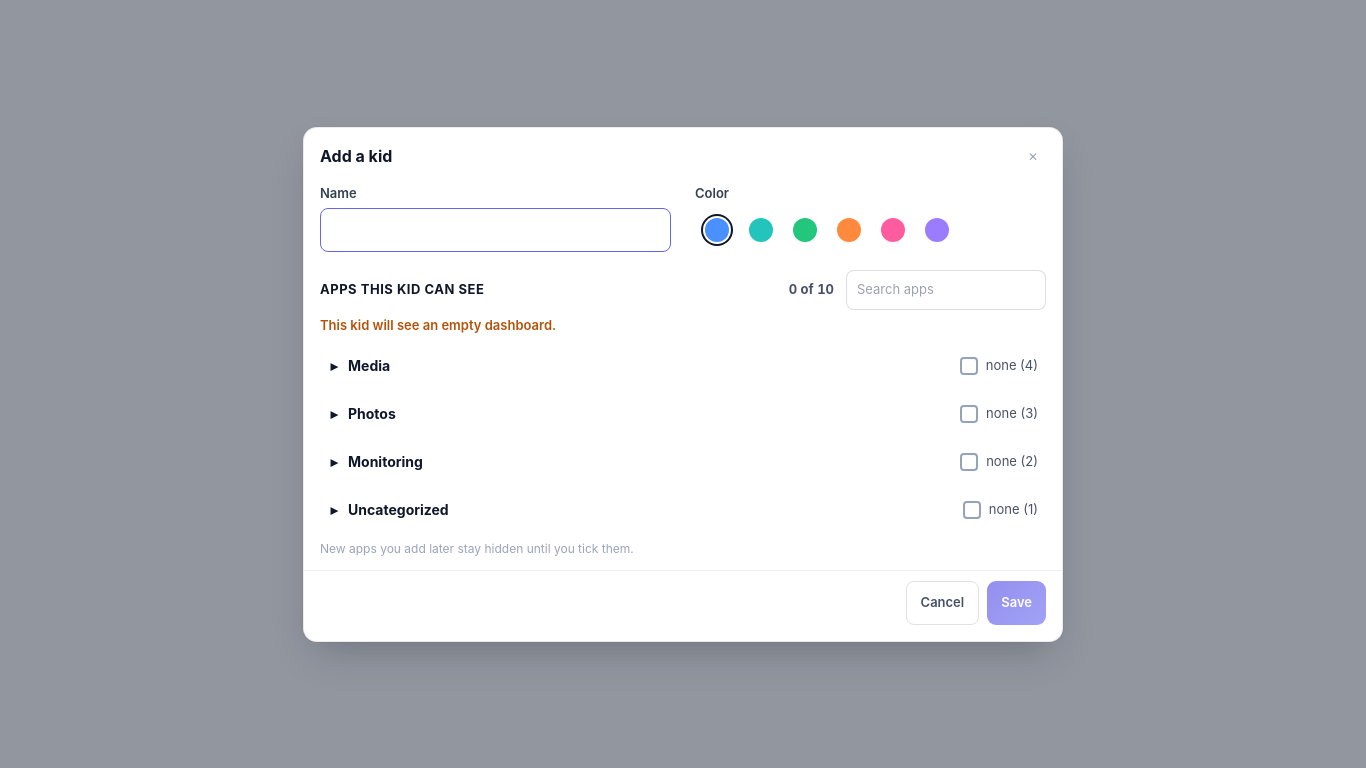
Add a kid (UX §3) › a 400 from the server is a name error too
Expected: the element with test id "kid-checklist" is shown, top-left (320, 344), bottom-right (1046, 532)
Type "Leo" into the field labelled "Name" at (496,230), box top-left (320, 208), bottom-right (671, 252)
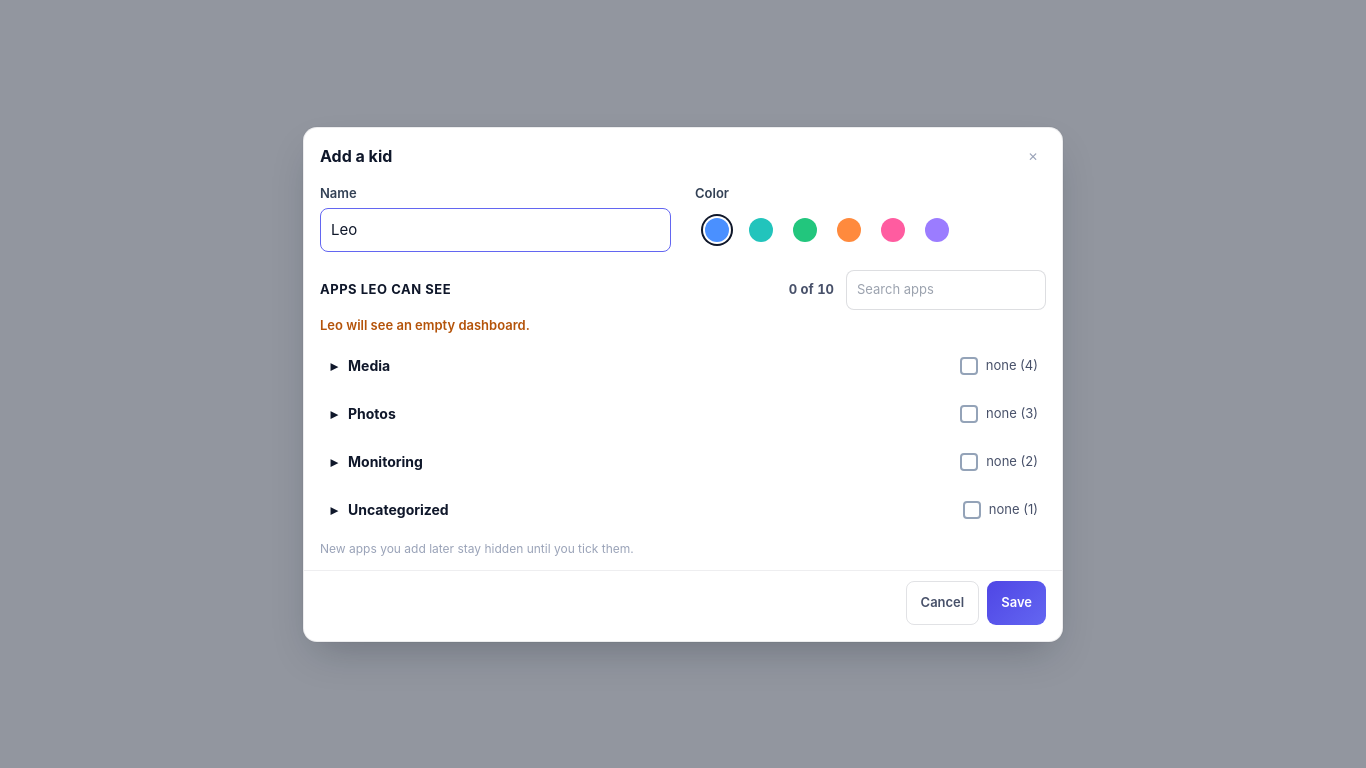
Click the button "Save" at (1017,602), box top-left (987, 580), bottom-right (1046, 624)
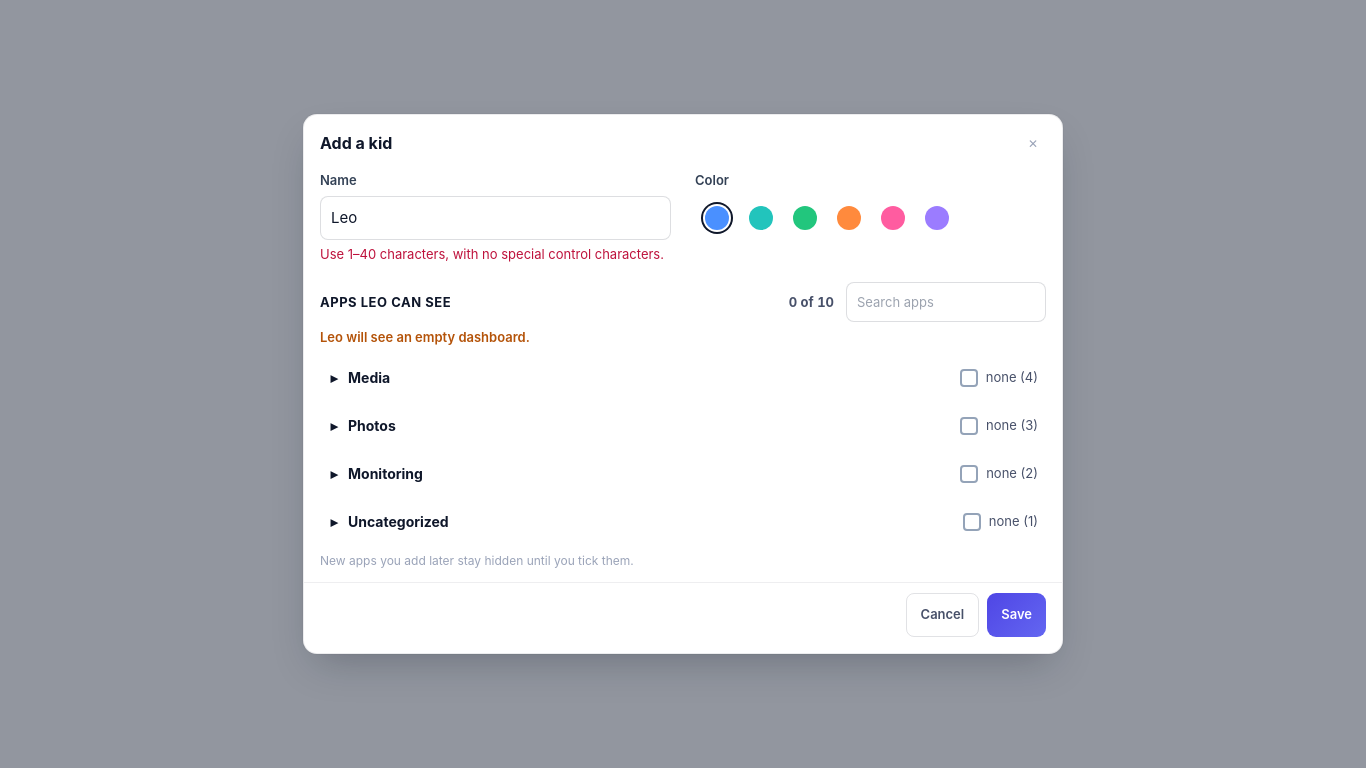
Result: the text "Use 1–40 characters, with no special control characters." is shown at top-left (320, 245), bottom-right (671, 264)
